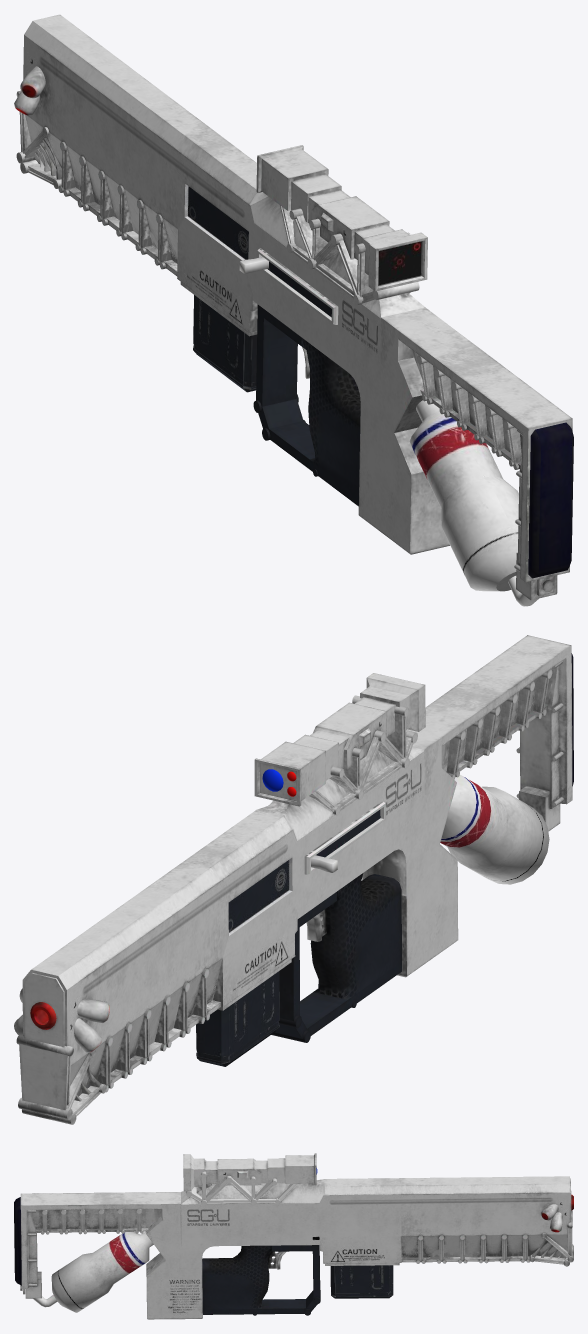
The picture shows the model from 3 angles, top to bottom: view 1: azimuth 30°, elevation 25°; view 2: azimuth 150°, elevation 25°; view 3: azimuth 270°, elevation 25°; orthographic projection. The views are drawn at different scales.
Parts seen in each view (by area): view 1: defaultMaterial; view 2: defaultMaterial; view 3: defaultMaterial.
Part boxes in pixels (bbox=[...]): defaultMaterial: bbox=[14, 14, 573, 606]; defaultMaterial: bbox=[14, 635, 573, 1124]; defaultMaterial: bbox=[14, 1153, 573, 1319].
Size of the model in its own units: 0.1024 by 0.307 by 1.
Materials: 1 (1 with a texture image).
